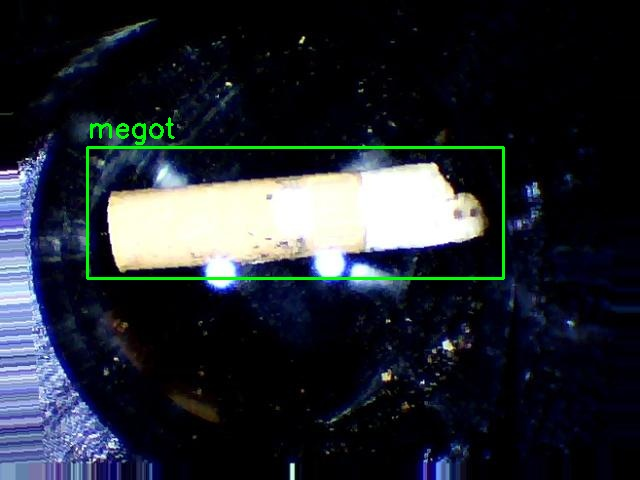megot: (87, 147, 503, 278)
